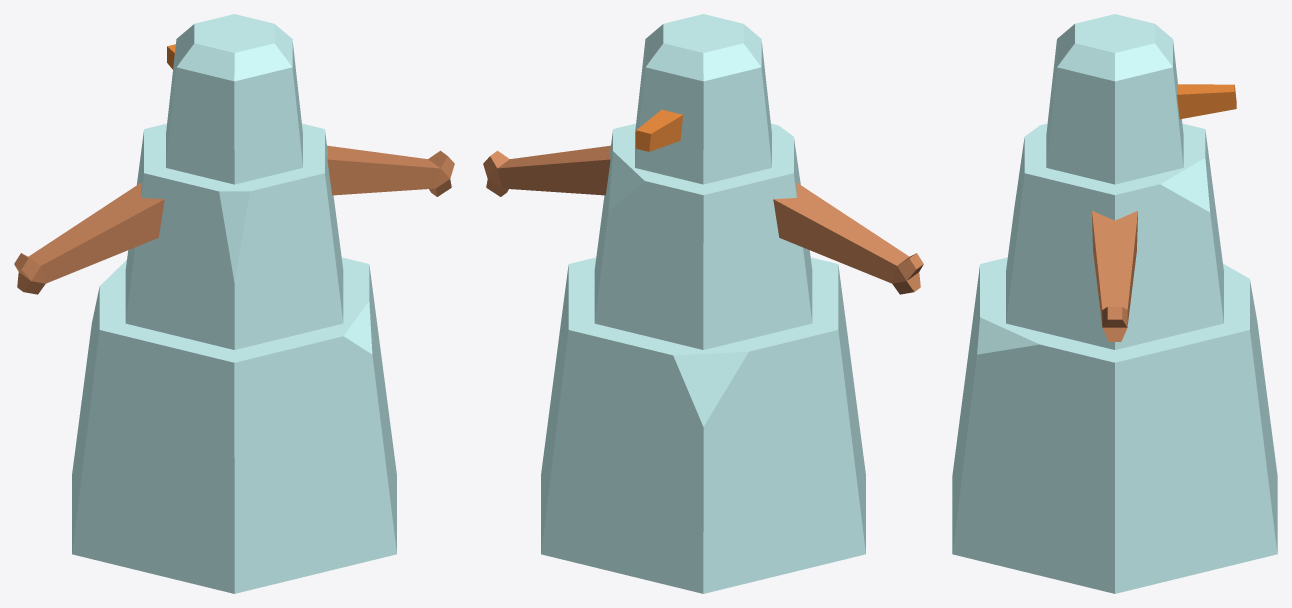
Rendered from snowman.dae.
The picture shows the model from 3 angles, left to right: view 1: azimuth 30°, elevation 25°; view 2: azimuth 150°, elevation 25°; view 3: azimuth 270°, elevation 25°; orthographic projection.
Parts seen in each view (by area): view 1: snowman; view 2: snowman; view 3: snowman.
Boxes of the visible parts, bbox=[...] form: snowman: bbox=[14, 14, 454, 593]; snowman: bbox=[483, 14, 923, 593]; snowman: bbox=[952, 14, 1277, 593].
Bounding box in the file's own units: 0.6935 × 0.7356 × 0.4503.
